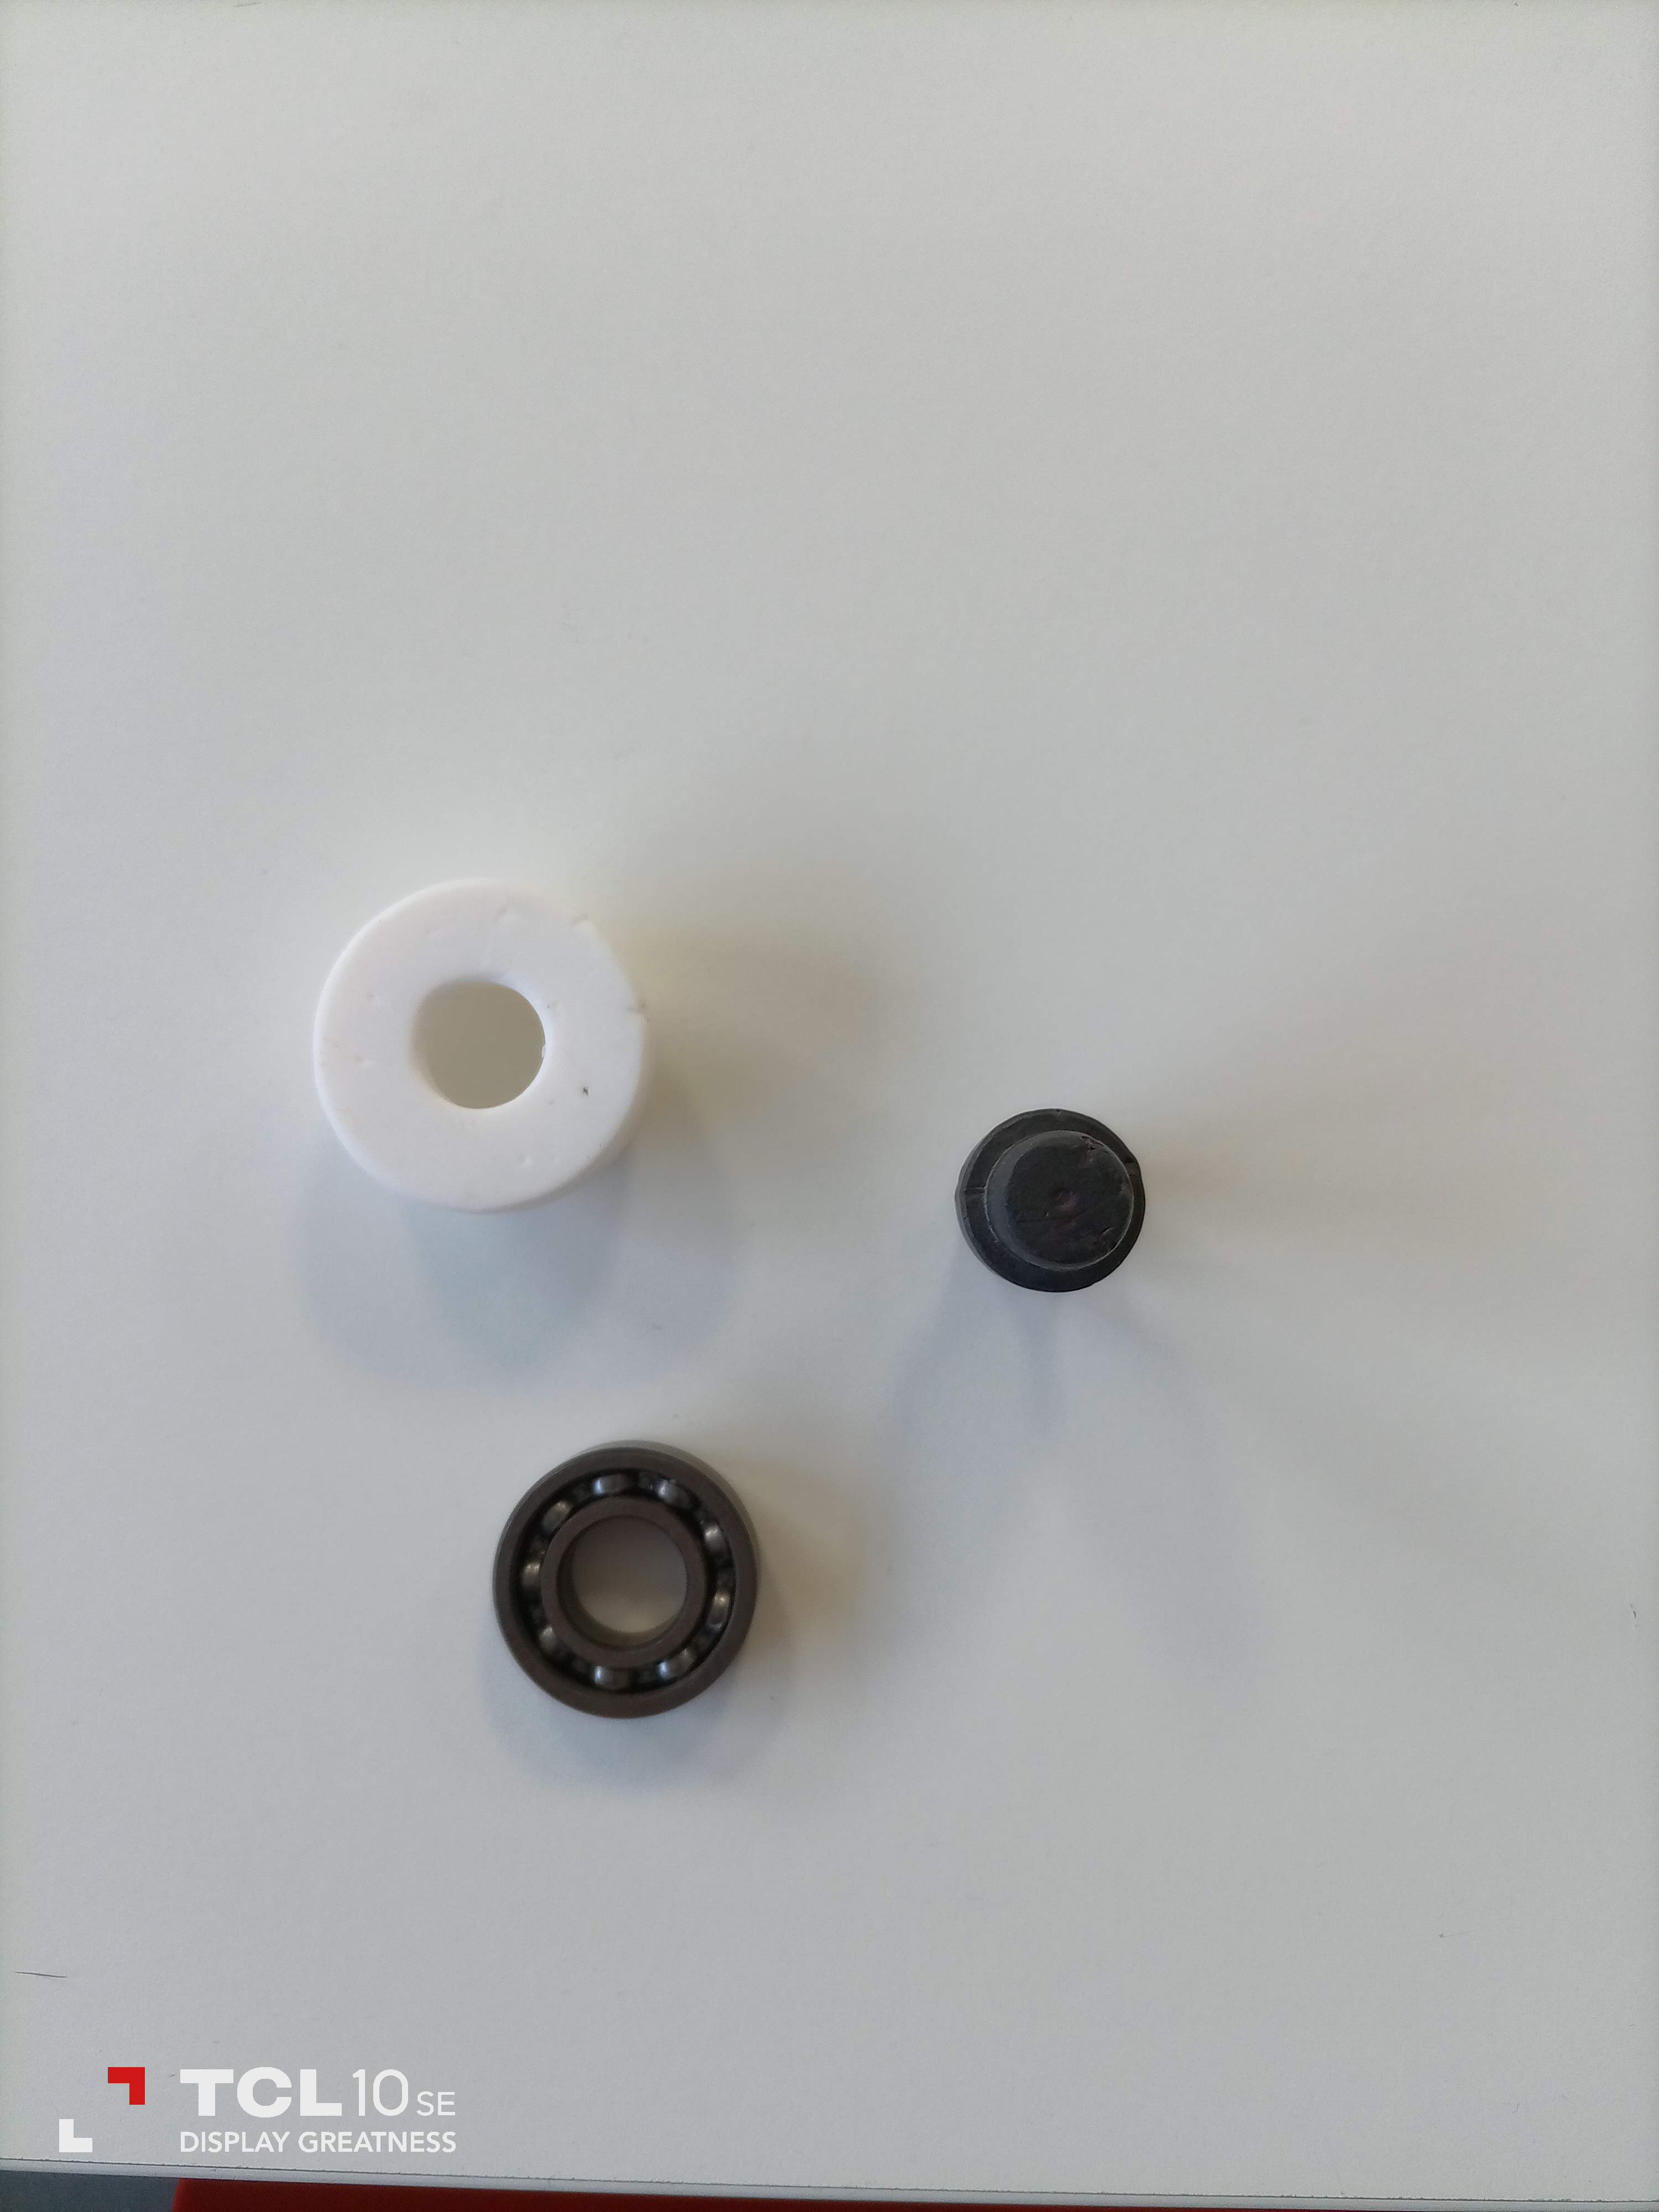Ardatza: (943, 1087, 1176, 1305)
Roda: (486, 1467, 803, 1737)
Tapa: (314, 866, 655, 1212)
